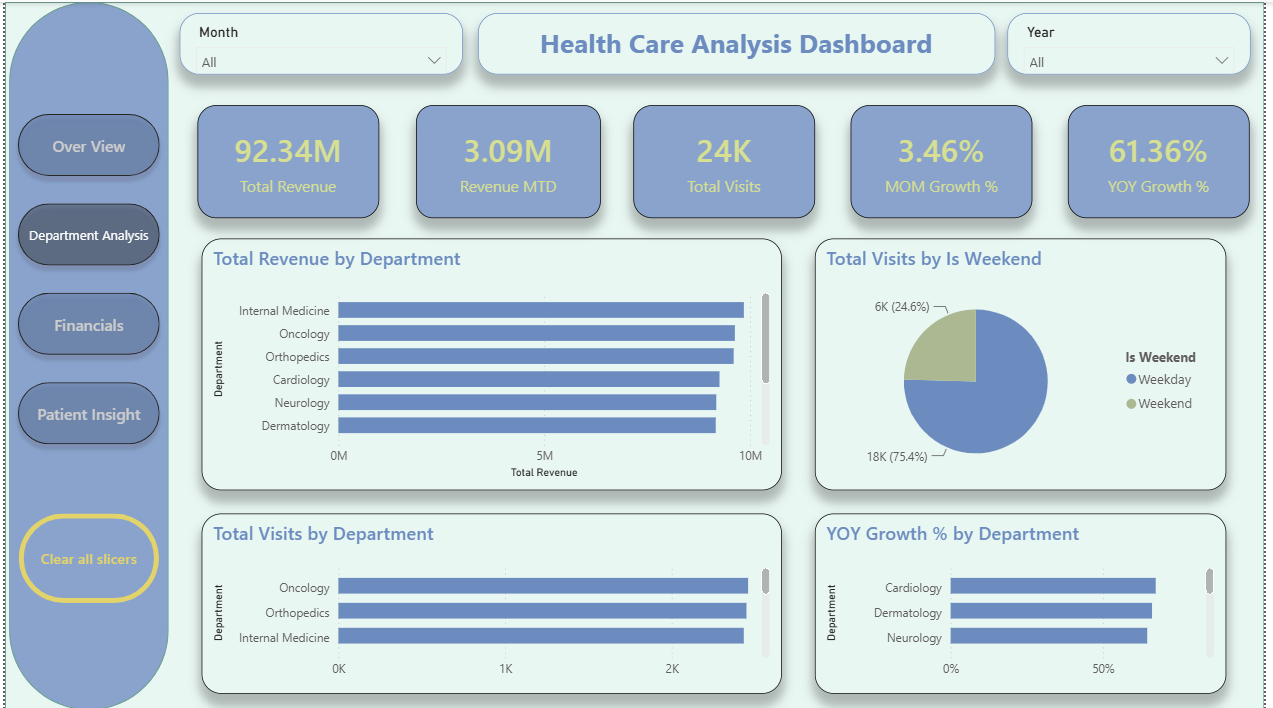

The page's visual inventory and layout, read from the dashboard file:
{"tool":"powerbi","page":{"name":"Department Analysis","canvas":[1280,720],"ordinal":1},"visuals":[{"type":"shape","box":[0,0,1280,720],"z":0},{"type":"clusteredBarChart","fields":{"Category":["healthcare_visits.Department"],"Y":["healthcare_visits.Total Revenue"]},"box":[199.9,240.4,589.8,255.8],"z":1000},{"type":"clusteredBarChart","fields":{"Category":["healthcare_visits.Department"],"Y":["healthcare_visits.Total Visits"]},"box":[199.9,519.9,589.8,183.1],"z":2000},{"type":"clusteredBarChart","fields":{"Category":["healthcare_visits.Department"],"Y":["healthcare_visits.YOY Growth %"]},"box":[823.2,519.9,417.9,183.1],"z":3000},{"type":"pieChart","fields":{"Category":["DateTable.Is Weekend"],"Y":["healthcare_visits.Total Visits"]},"box":[823.2,240.4,417.9,255.8],"z":4000},{"type":"card","fields":{"Values":["healthcare_visits.Total Revenue"]},"box":[195.7,104.8,185,115],"z":5000},{"type":"card","fields":{"Values":["healthcare_visits.YOY Growth %"]},"box":[1080.9,104.6,185,115],"z":6000},{"type":"card","fields":{"Values":["healthcare_visits.Total Visits"]},"box":[638,104.6,185,115],"z":7000},{"type":"card","fields":{"Values":["healthcare_visits.MOM Growth %"]},"box":[859.4,104.6,185,115],"z":8000},{"type":"shape","box":[4.2,0,162.1,719.8],"z":9000},{"type":"textbox","box":[480.8,11.2,525.5,62.9],"z":10000},{"type":"slicer","fields":{"Values":["DateTable.Year"]},"box":[1018.8,11.2,247.4,62.9],"z":11000},{"type":"slicer","fields":{"Values":["DateTable.Month"]},"box":[177.5,11.2,287.9,62.9],"z":12000},{"type":"card","fields":{"Values":["healthcare_visits.Revenue MTD"]},"box":[417.9,104.8,187.3,114.6],"z":13000},{"type":"pageNavigator","box":[4.2,104.8,162.1,355],"z":15001},{"type":"actionButton","box":[14,519.9,142.6,90.8],"z":15002}]}

Visuals, with their boxes in screenshot pixels (x1, y1, x2, y2), scaled from the page's 1280x720 canvas onto the 1273x708 screenshot:
shape: crop(0, 0, 1272, 707)
clusteredBarChart - healthcare_visits.Department x healthcare_visits.Total Revenue: crop(199, 236, 785, 488)
clusteredBarChart - healthcare_visits.Department x healthcare_visits.Total Visits: crop(199, 511, 785, 691)
clusteredBarChart - healthcare_visits.Department x healthcare_visits.YOY Growth %: crop(819, 511, 1234, 691)
pieChart - DateTable.Is Weekend x healthcare_visits.Total Visits: crop(819, 236, 1234, 488)
card - healthcare_visits.Total Revenue: crop(195, 103, 379, 216)
card - healthcare_visits.YOY Growth %: crop(1075, 103, 1259, 216)
card - healthcare_visits.Total Visits: crop(635, 103, 818, 216)
card - healthcare_visits.MOM Growth %: crop(855, 103, 1039, 216)
shape: crop(4, 0, 165, 707)
textbox: crop(478, 11, 1001, 73)
slicer - DateTable.Year: crop(1013, 11, 1259, 73)
slicer - DateTable.Month: crop(177, 11, 463, 73)
card - healthcare_visits.Revenue MTD: crop(416, 103, 602, 216)
pageNavigator: crop(4, 103, 165, 452)
actionButton: crop(14, 511, 156, 601)
